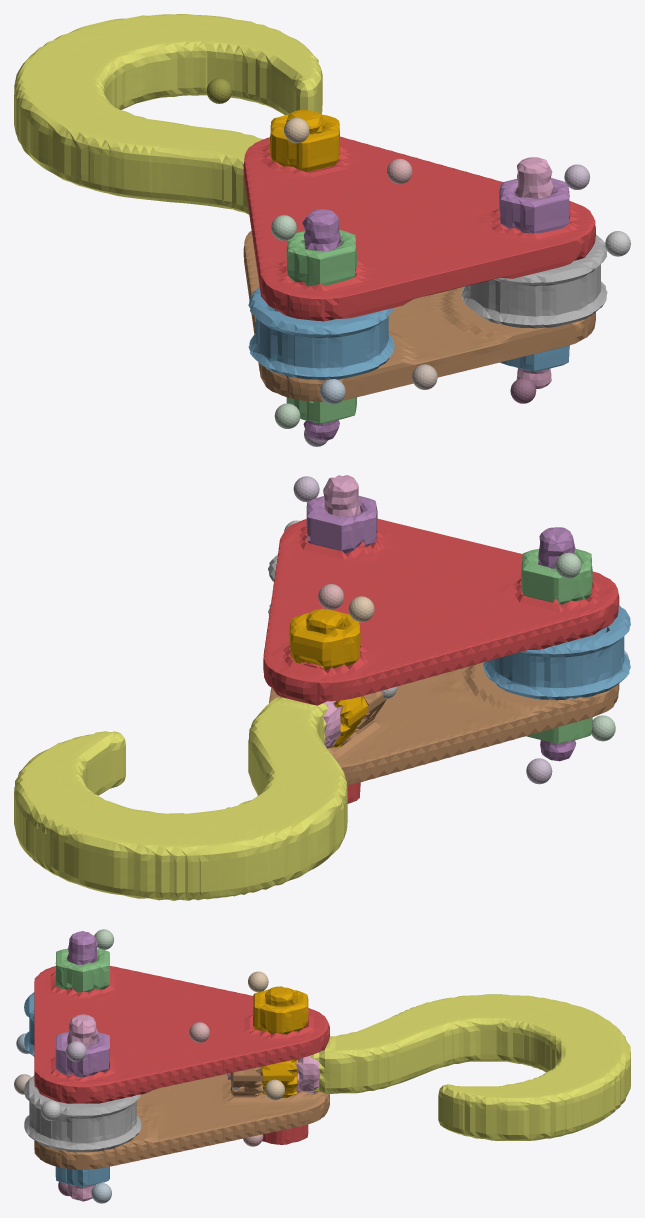
Rendered from ours.glb.
3 views of the same model, one above another, from view 1: azimuth 30°, elevation 25°; view 2: azimuth 150°, elevation 25°; view 3: azimuth 270°, elevation 25° (orthographic). The views are drawn at different scales.
Visible parts, largest first — view 1: g13, g0, g14, g1, g7, g11, g10, g12, g15, g3, g2, g9; view 2: g13, g0, g14, g1, g12, g11, g10, g3, g4, g2, g15, g6; view 3: g13, g0, g14, g7, g12, g10, g11, g4, g15, g9, g3, g5 (+3 smaller).
Boxes of the visible parts, bbox=[...] form: g13: bbox=[14, 14, 322, 214]; g0: bbox=[243, 136, 595, 321]; g14: bbox=[243, 231, 595, 401]; g1: bbox=[248, 287, 394, 404]; g7: bbox=[461, 231, 630, 328]; g11: bbox=[499, 164, 589, 233]; g10: bbox=[271, 215, 356, 286]; g12: bbox=[270, 114, 339, 171]; g15: bbox=[510, 157, 553, 403]; g3: bbox=[302, 209, 341, 446]; g2: bbox=[274, 397, 356, 428]; g9: bbox=[500, 345, 569, 371]; g13: bbox=[14, 697, 347, 900]; g0: bbox=[263, 519, 619, 705]; g14: bbox=[269, 662, 619, 784]; g1: bbox=[483, 605, 630, 700]; g12: bbox=[289, 596, 374, 670]; g11: bbox=[293, 476, 377, 553]; g10: bbox=[521, 548, 592, 604]; g3: bbox=[526, 527, 576, 784]; g4: bbox=[306, 608, 368, 747]; g2: bbox=[527, 715, 615, 743]; g15: bbox=[323, 475, 361, 516]; g6: bbox=[322, 701, 343, 748]; g13: bbox=[309, 994, 630, 1140]; g0: bbox=[34, 966, 329, 1103]; g14: bbox=[14, 1074, 329, 1169]; g7: bbox=[24, 1075, 141, 1152]; g12: bbox=[248, 971, 308, 1034]; g10: bbox=[55, 929, 114, 992]; g11: bbox=[55, 1031, 109, 1077]; g4: bbox=[260, 986, 297, 1100]; g15: bbox=[58, 1014, 98, 1201]; g9: bbox=[55, 1166, 111, 1203]; g3: bbox=[67, 931, 98, 989]; g5: bbox=[230, 1066, 264, 1096].
Bounding box in the file's own units: 1 × 0.6621 × 1.9.
